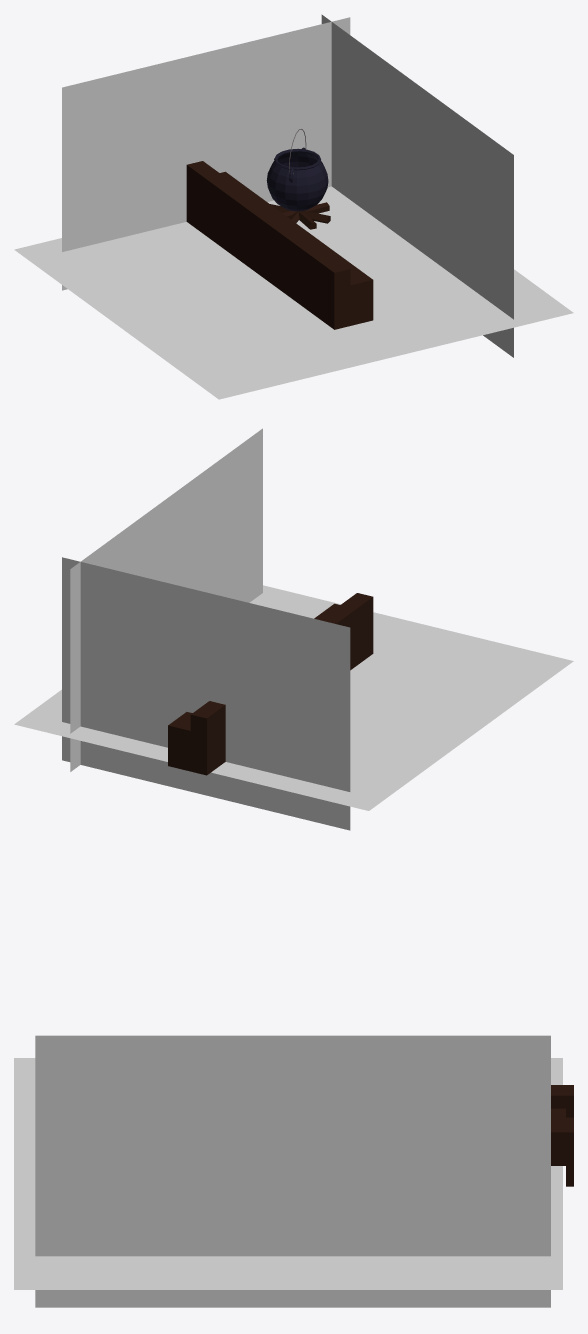
File: Level.fbx
3 renders of one model, top to bottom at view 1: azimuth 30°, elevation 25°; view 2: azimuth 150°, elevation 25°; view 3: azimuth 270°, elevation 25°, orthographic. The views are drawn at different scales.
Visible parts, largest first — view 1: Floor, Wall East, Wall South, BarCounter, Kettle; view 2: Wall East, Floor, Wall South, BarCounter; view 3: Wall South, Floor, BarCounter.
Boxes of the visible parts, x1,y1,x2,y2 form: Floor: (14, 186, 573, 399); Wall East: (62, 17, 350, 290); Wall South: (321, 14, 513, 357); BarCounter: (186, 161, 373, 329); Kettle: (266, 148, 328, 211); Wall East: (62, 557, 350, 830); Floor: (14, 585, 573, 810); Wall South: (70, 428, 262, 771); BarCounter: (168, 593, 373, 775); Wall South: (35, 1035, 550, 1307); Floor: (14, 1058, 562, 1289); BarCounter: (551, 1085, 573, 1186).
Size of the model in its own units: 915 by 500 by 933.
